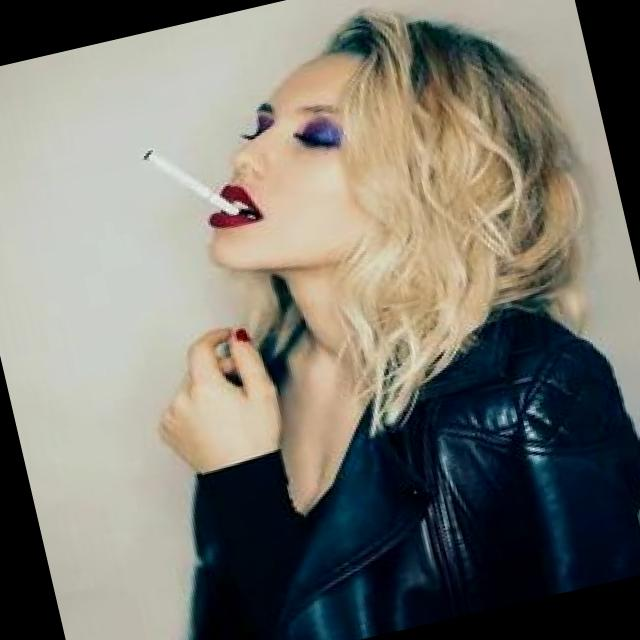smoke: (136, 126, 250, 237)
